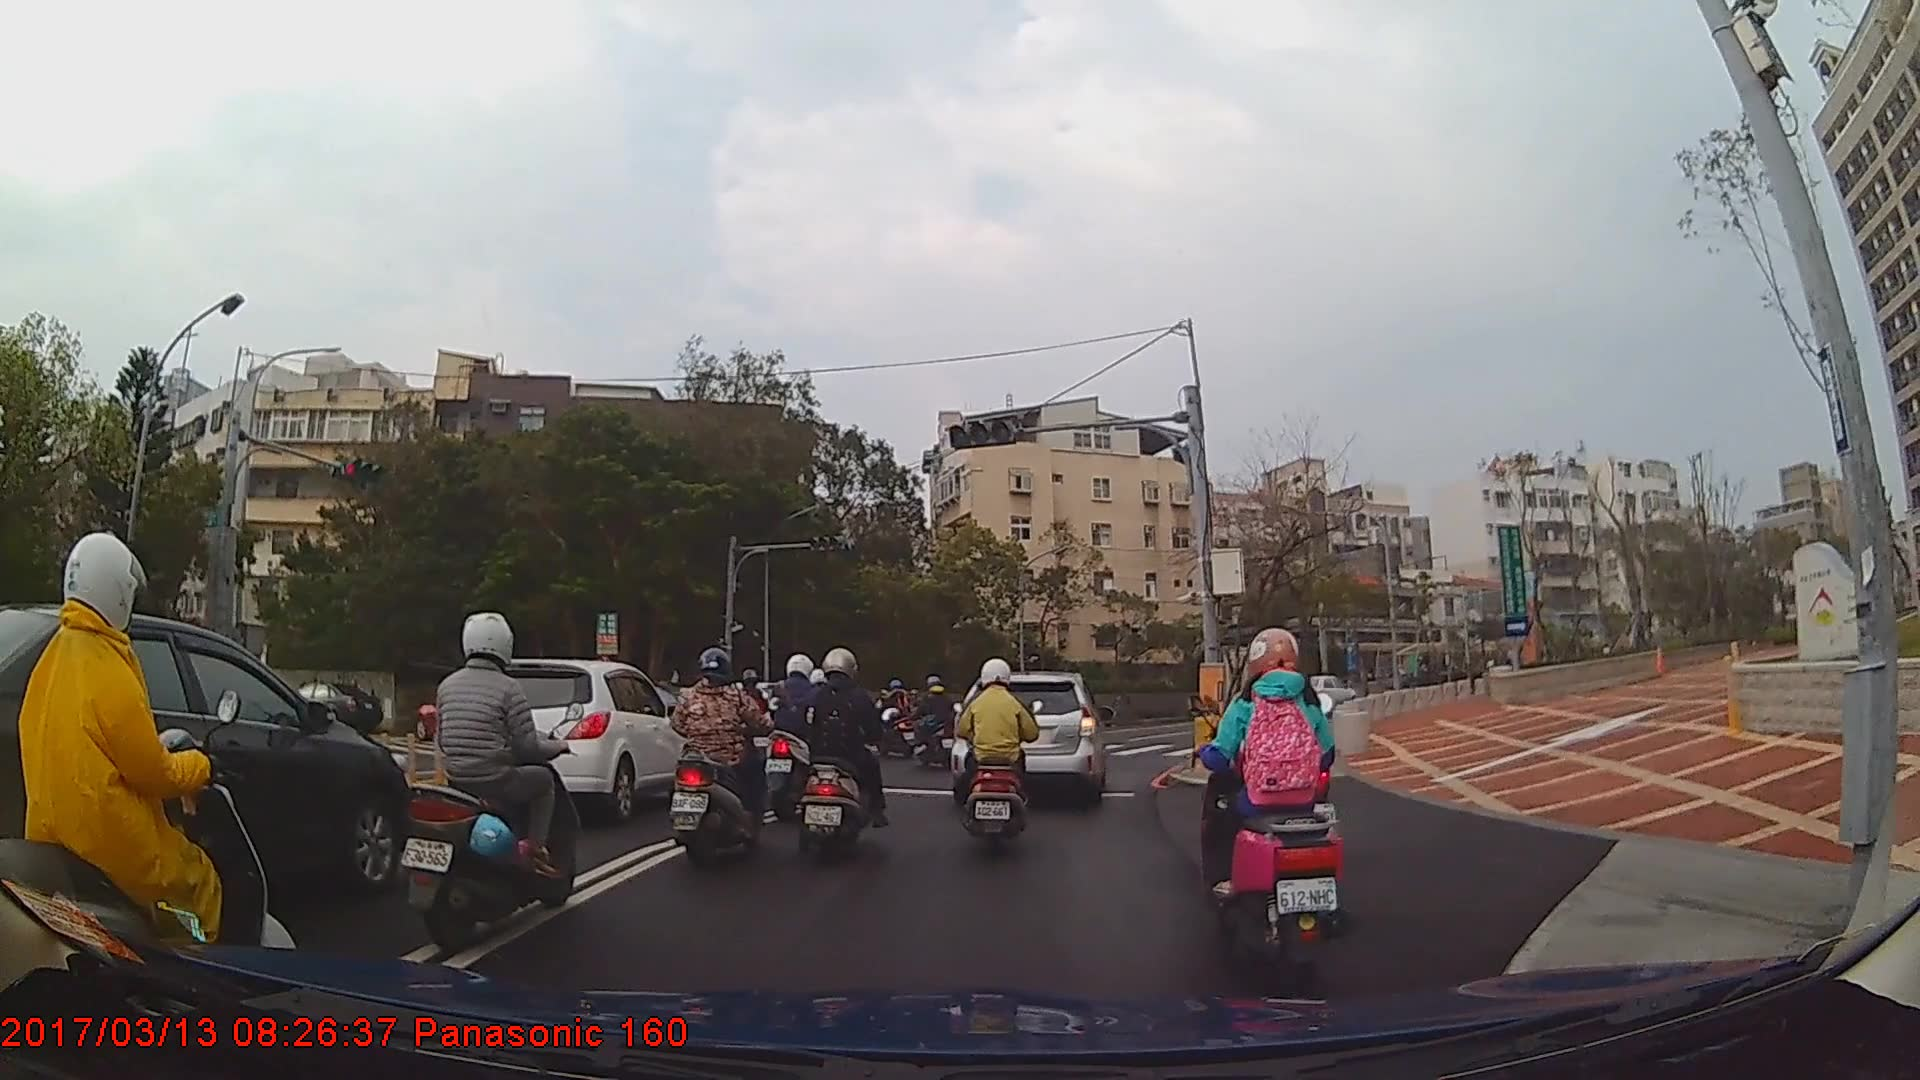rider: (3, 530, 302, 1023), (399, 610, 584, 954), (1198, 628, 1348, 957), (664, 642, 780, 871), (791, 641, 893, 861), (952, 655, 1044, 846), (763, 648, 833, 817), (902, 673, 966, 771), (865, 677, 919, 758)
vehicle: (0, 599, 414, 943), (452, 656, 694, 823), (952, 668, 1108, 803), (279, 678, 383, 733), (1301, 673, 1357, 707)
